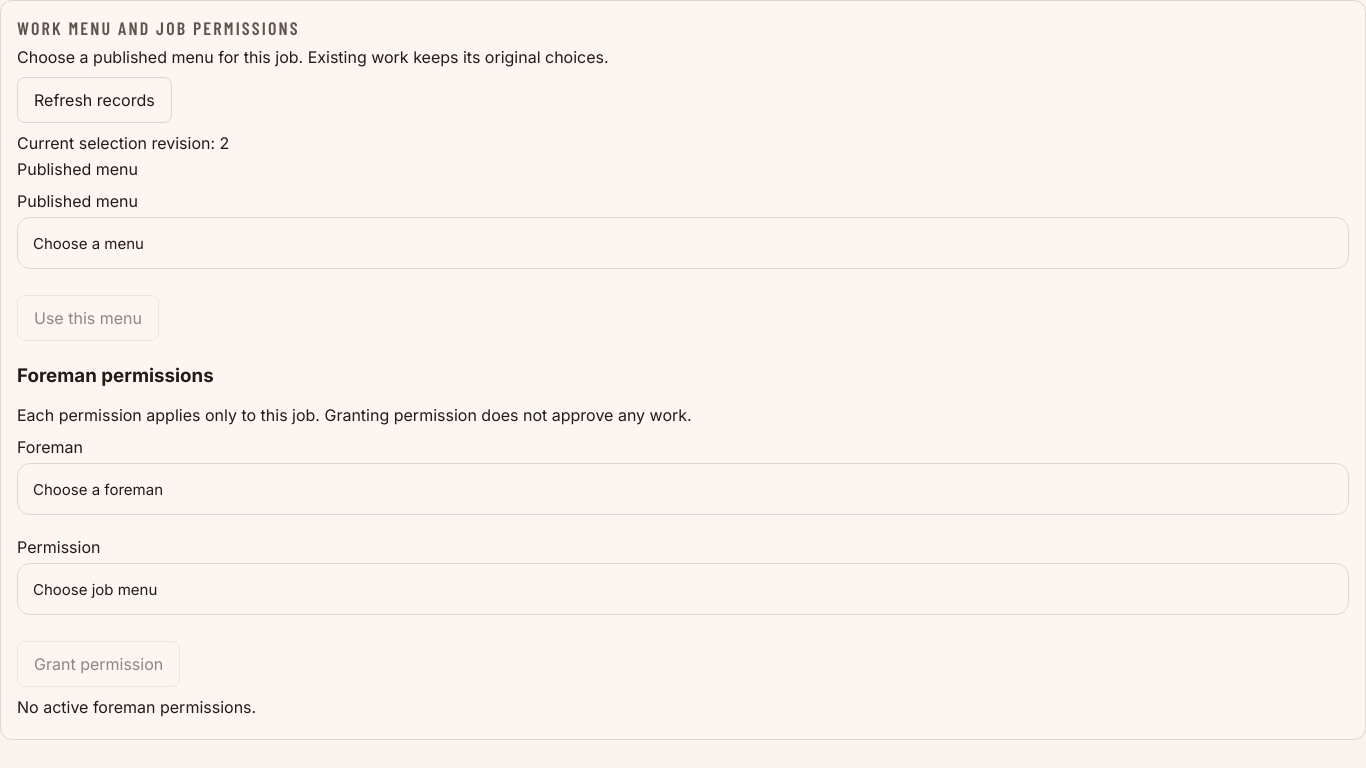
Test case: exact-job configuration panel › does not silently rebase a selected menu after an automatic revision refresh
Select "Published menu · v1" in the dropdown labelled "Published menu" at (683, 243), box [17,217,1349,269]
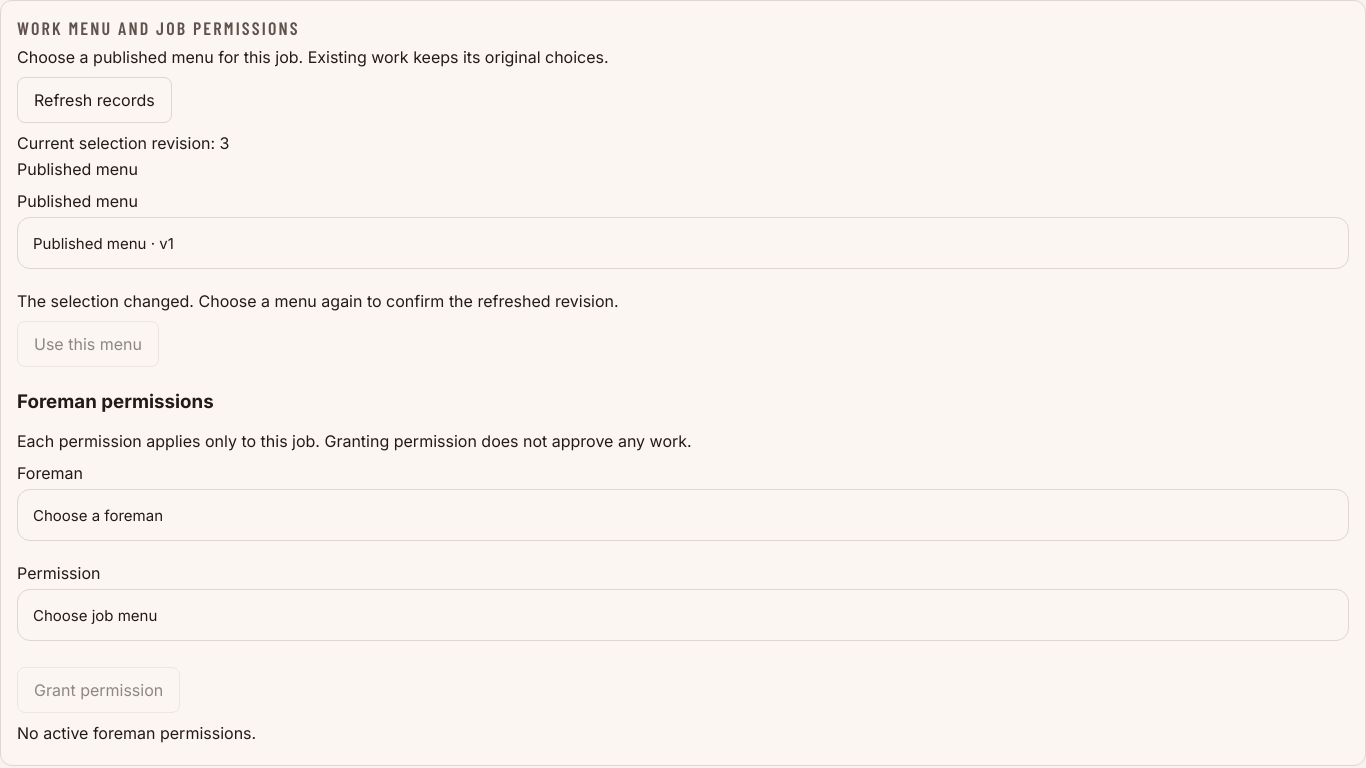
Check: the button "Use this menu" is disabled, box [17,321,159,367]
Check: the text "selection changed" is shown, box [17,291,619,311]
